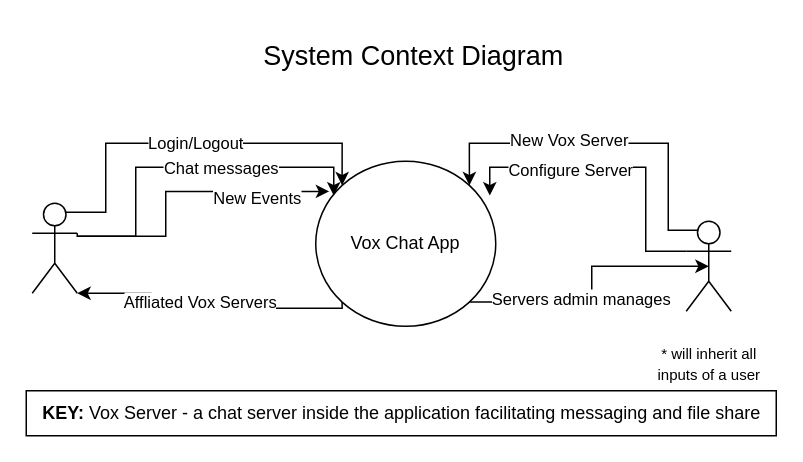
Some shapes in this 803 by 462 pixel diagram are drawn without their labels. The shapes that lost their labels are listed below. From the top down, each one's centre as x and y in pixels, then its label:
At point (54, 247): "User".
At point (708, 265): "Server Admin".
